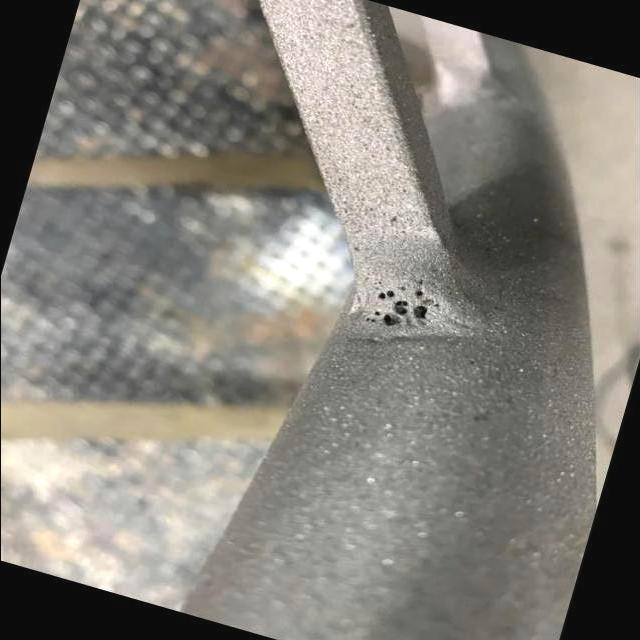defect: (359, 309, 398, 329), (410, 302, 432, 320), (389, 300, 410, 316), (375, 290, 398, 301), (414, 290, 425, 299), (373, 280, 384, 288), (416, 278, 427, 286), (396, 285, 406, 293)
